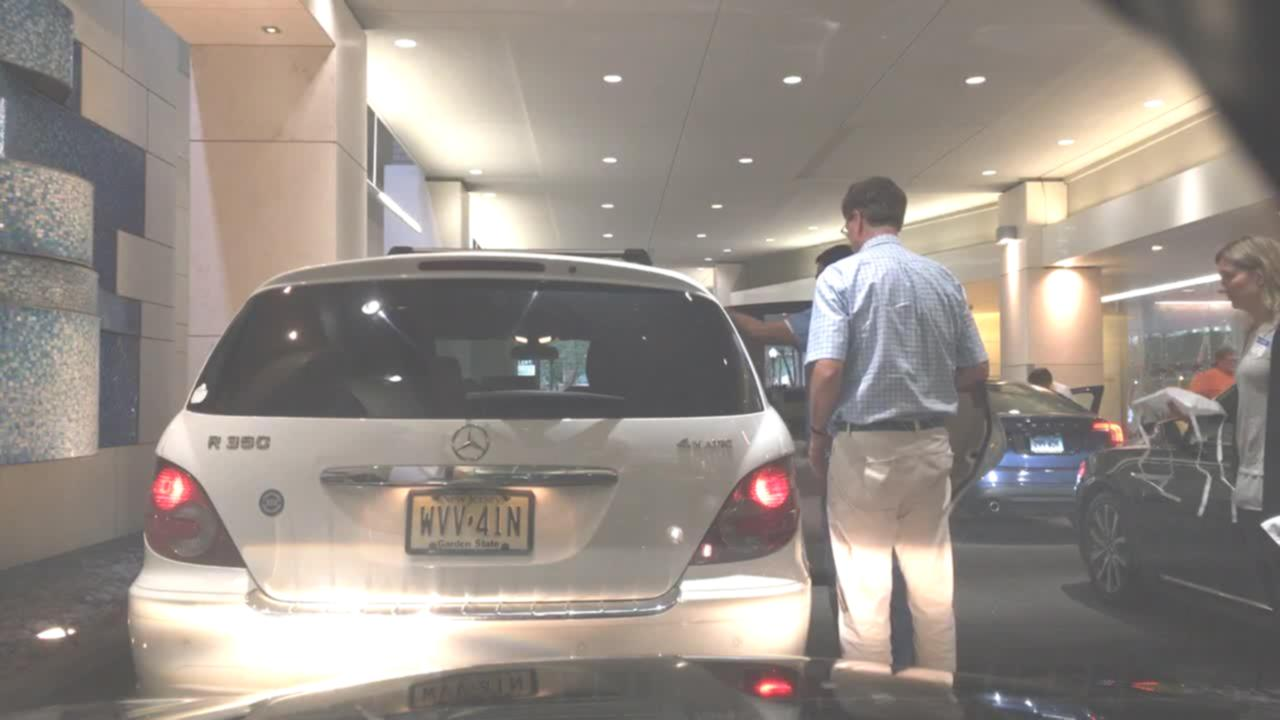Mercedes: (446, 415, 495, 464)
